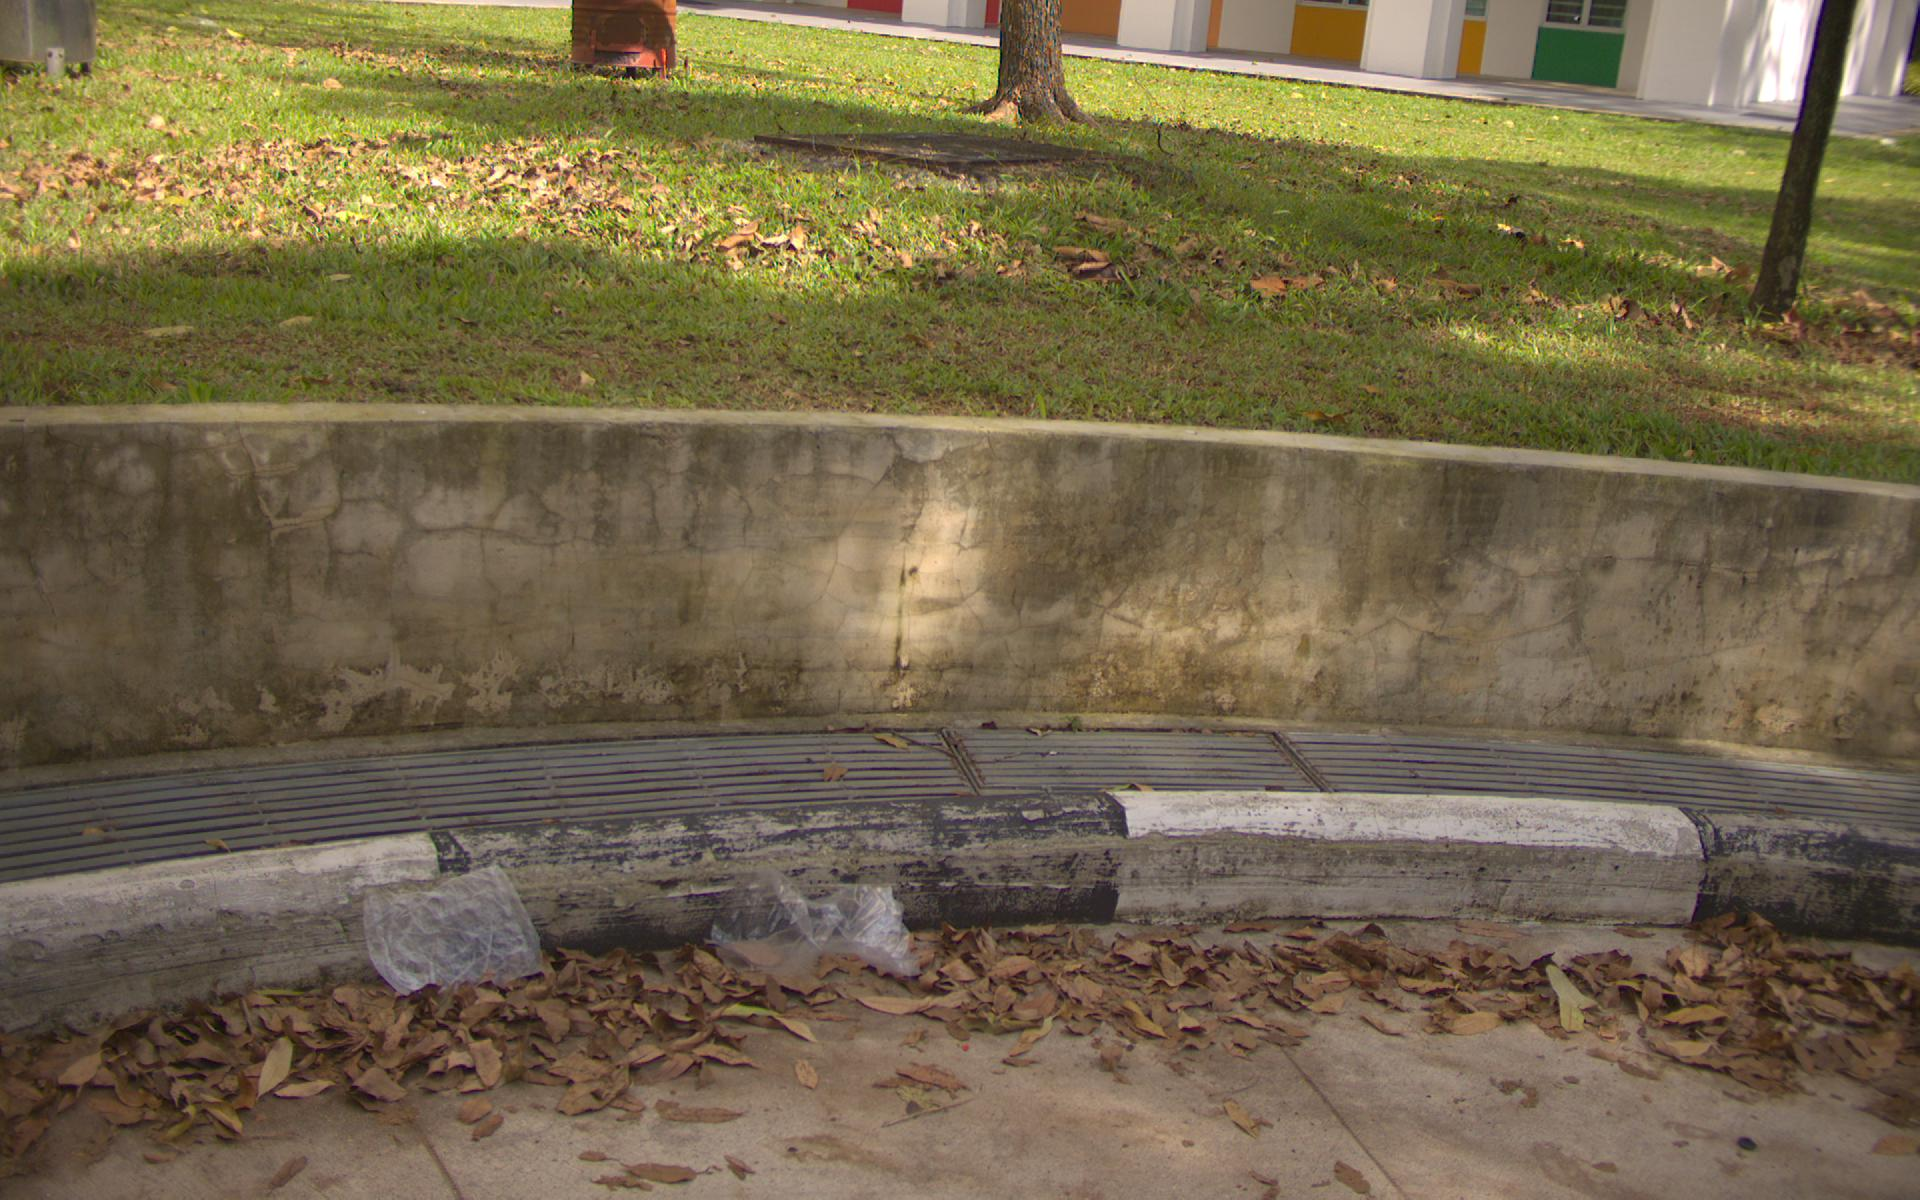curb_dic_low: (634, 722, 1920, 805)
road_curb_medium: (593, 928, 1920, 1190)
road_turf_low: (4, 129, 1920, 400)
